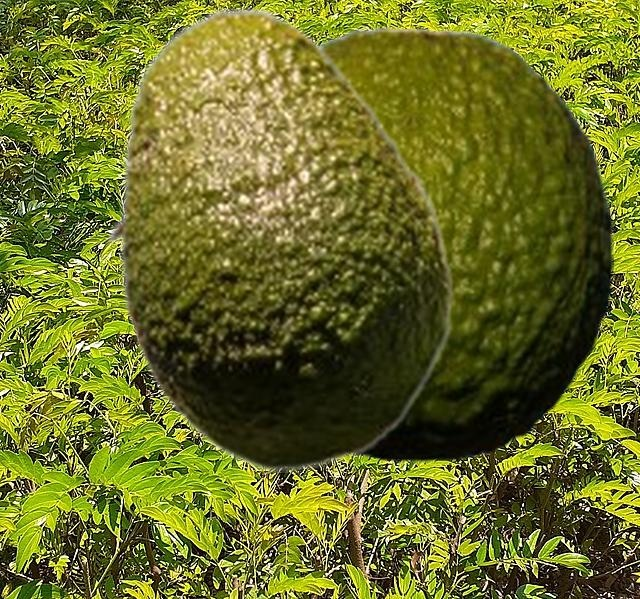avocado: (105, 6, 454, 471), (318, 26, 612, 461)
